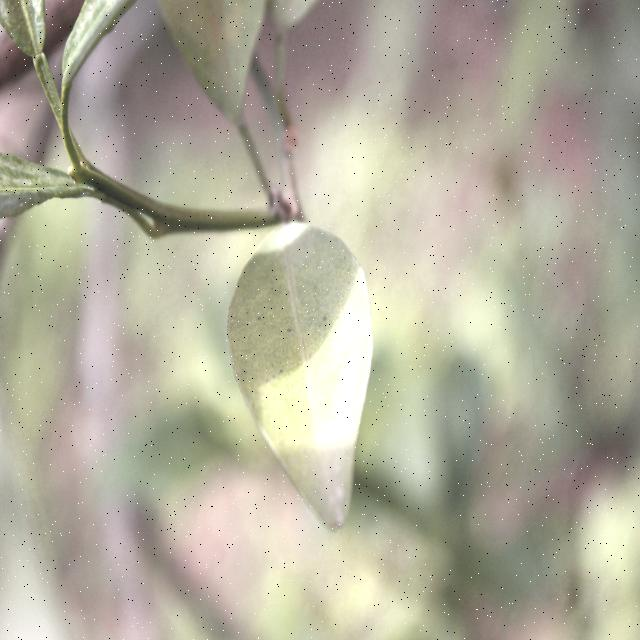blackspot: (250, 256, 362, 457)
